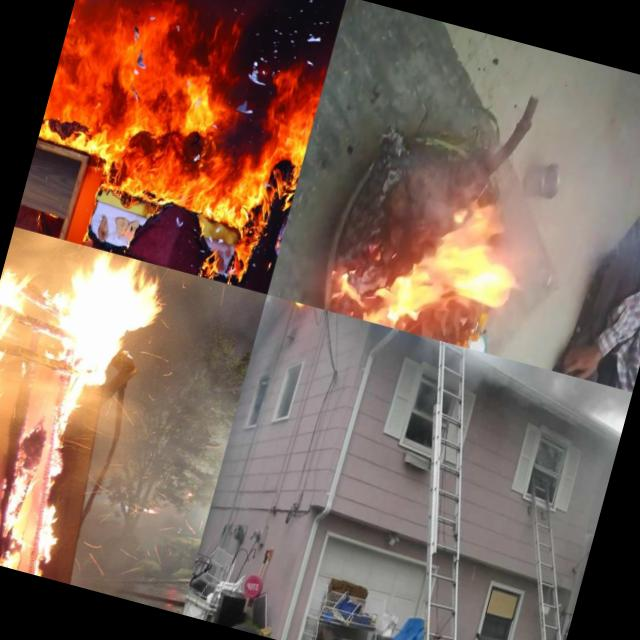fire: (13, 0, 343, 294), (0, 226, 172, 405), (0, 363, 95, 578)
smoke: (70, 338, 246, 530), (49, 495, 203, 614)
